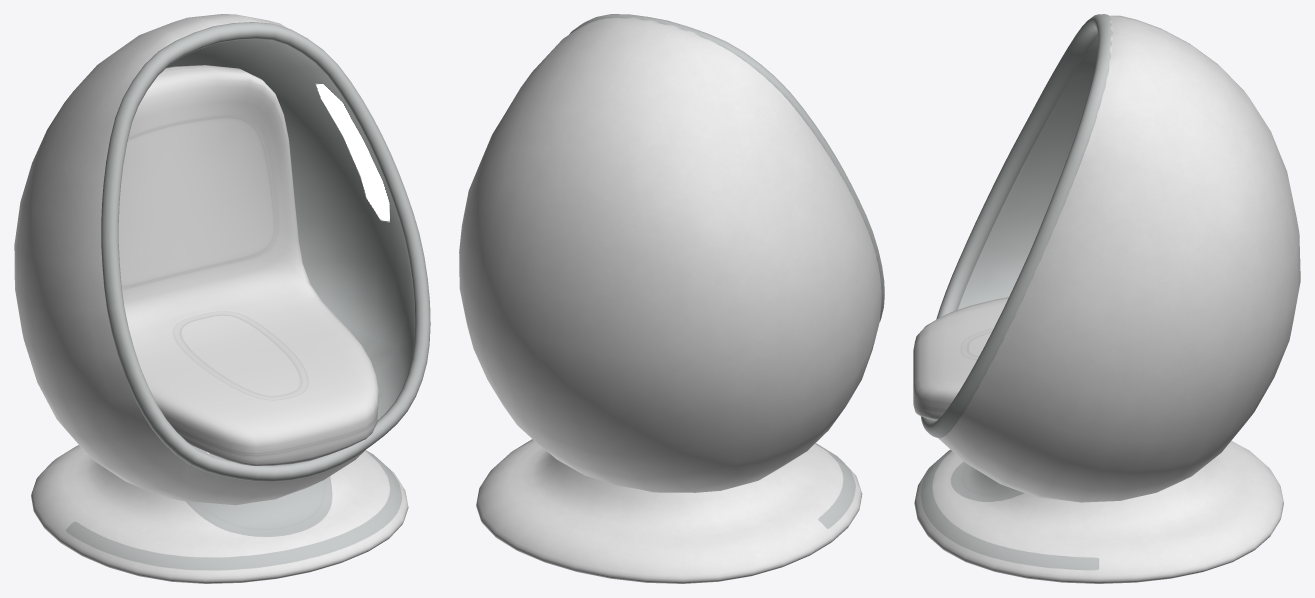
Rendered from Chair07.FBX.
3 views of the same model, side by side, from view 1: azimuth 30°, elevation 25°; view 2: azimuth 150°, elevation 25°; view 3: azimuth 270°, elevation 25° (orthographic). The views are drawn at different scales.
Visible parts, largest first — view 1: Chair07; view 2: Chair07; view 3: Chair07.
Boxes of the visible parts, bbox=[...] form: Chair07: bbox=[14, 14, 430, 583]; Chair07: bbox=[459, 14, 884, 583]; Chair07: bbox=[913, 14, 1300, 583].
Size of what is drawn, in the model's own units: 1.26 by 1.63 by 1.2.
